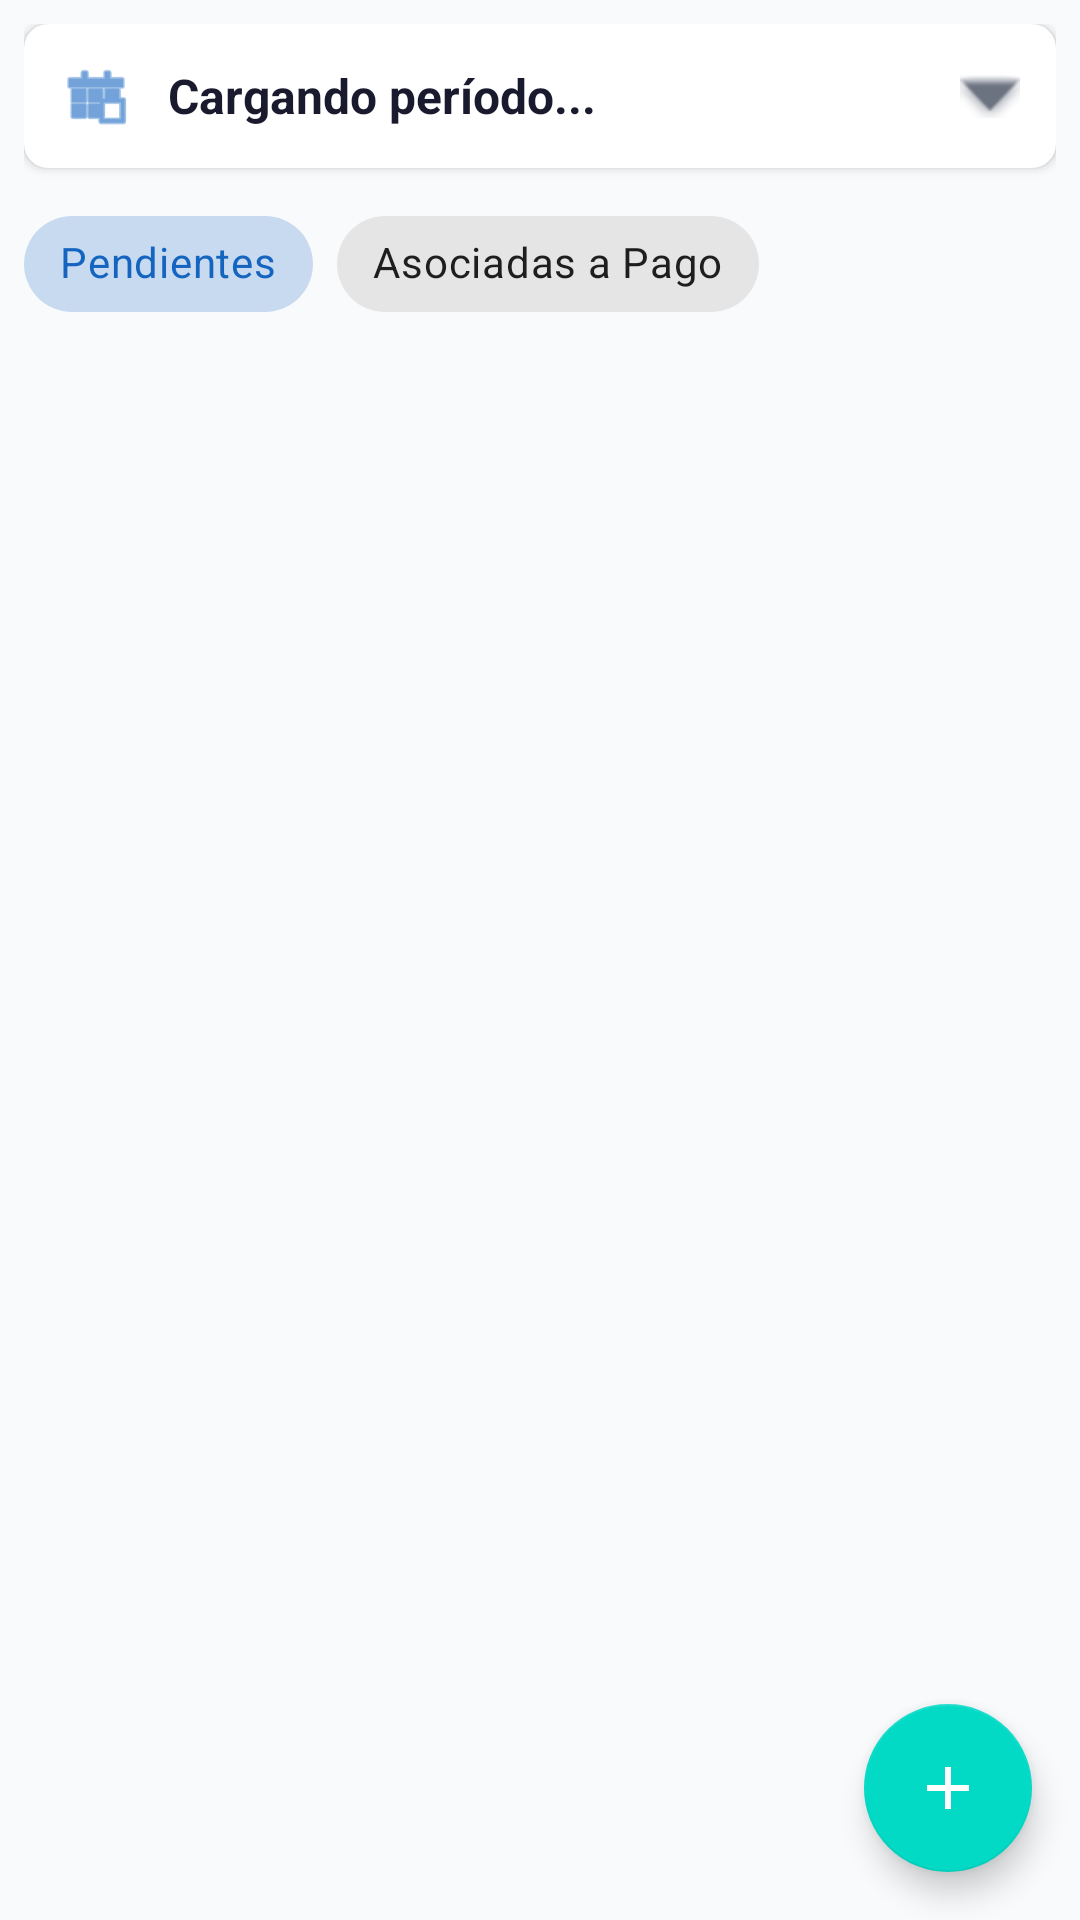

Screen size 1080px×1920px. Icon name, then its center in pixels as [x,y]:
add: [948,1788]
arrow down float: [990,95]
today: [96,97]
